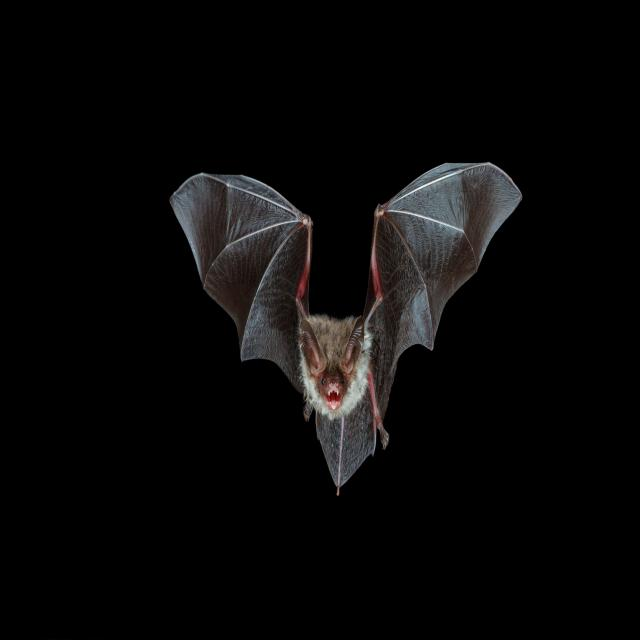Bat: (166, 148, 526, 502)
